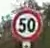limite 50: (10, 8, 43, 40)
